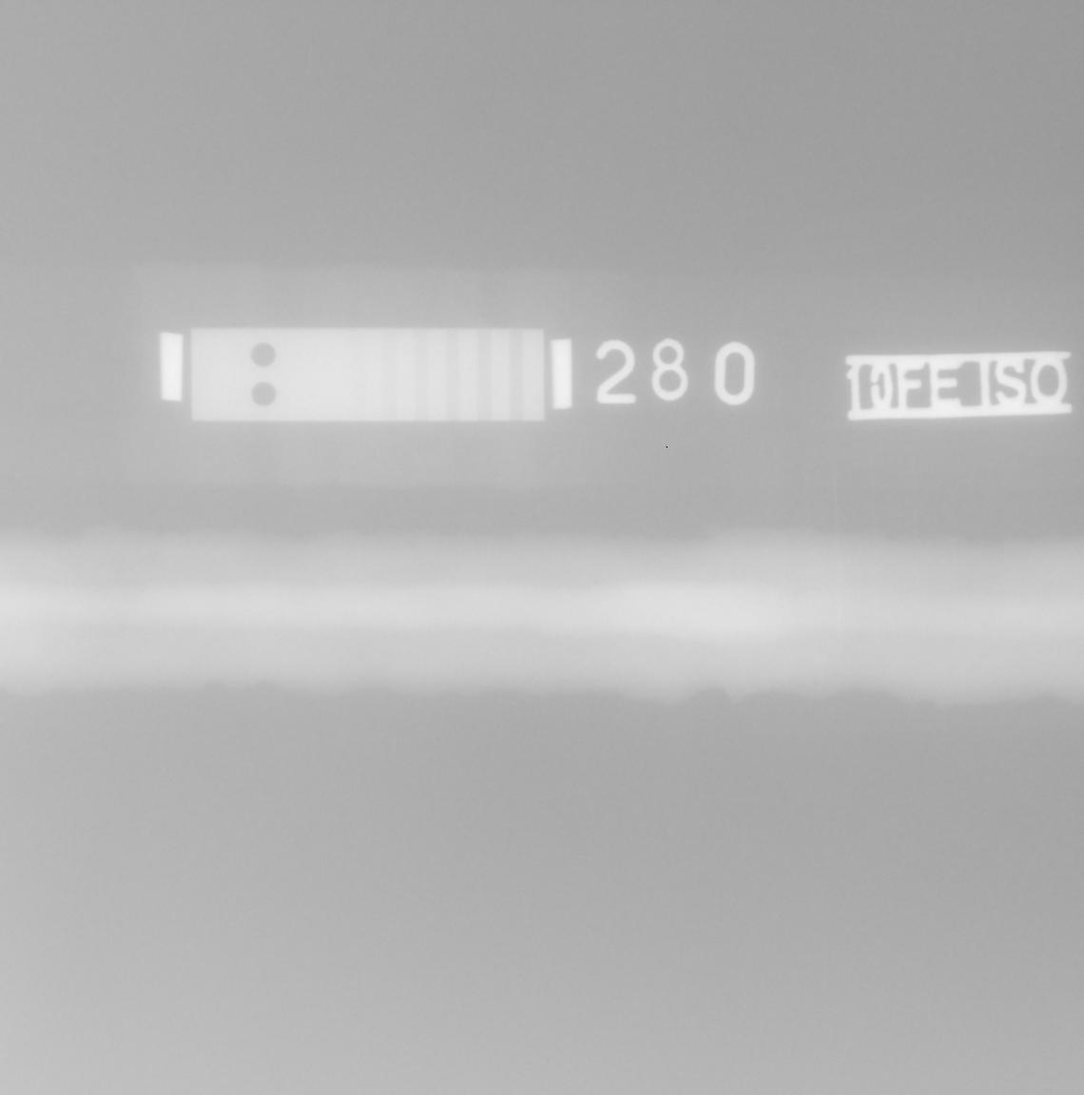Reference Standard 2: (190, 328, 546, 422)
